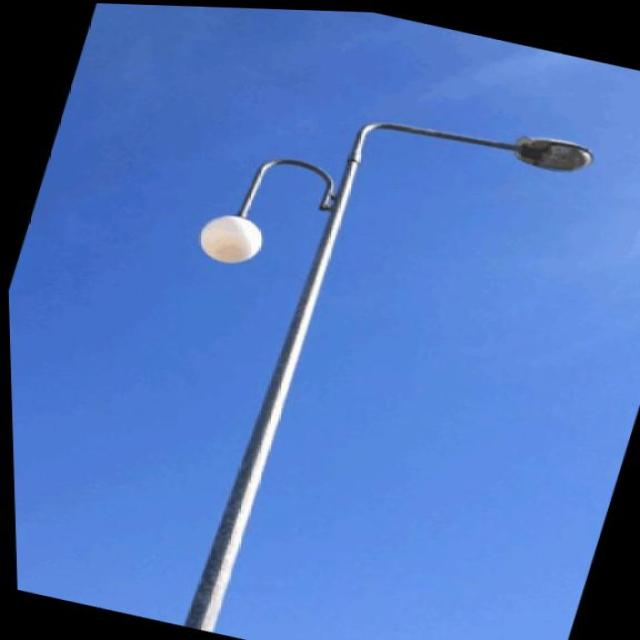pole: (150, 255, 309, 621)
